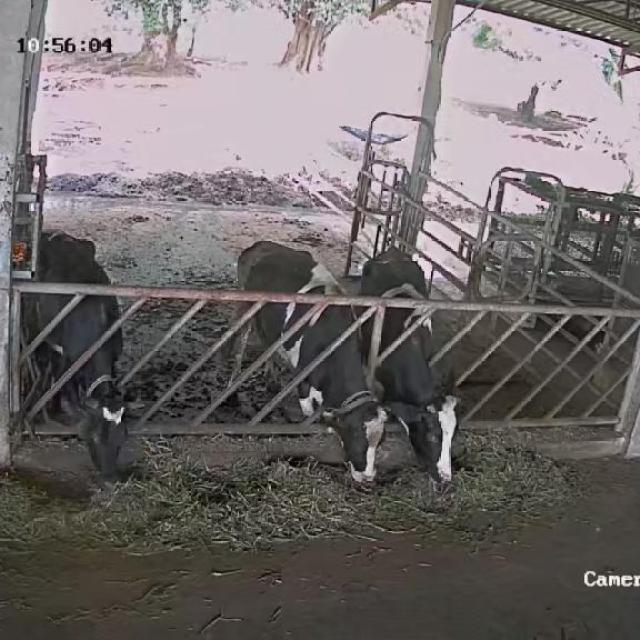feeding: (230, 240, 393, 500), (26, 222, 148, 490), (361, 249, 462, 497)
